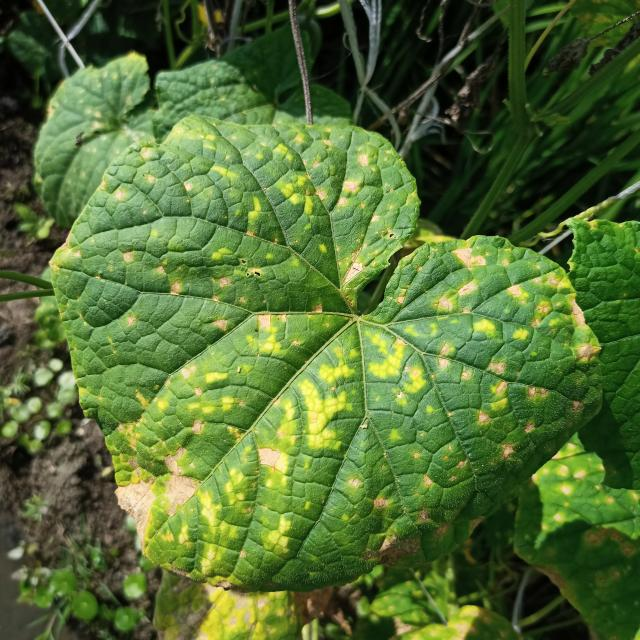disease_cucumber: (82, 128, 588, 564)
